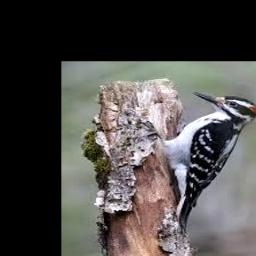Woodpecker: (162, 92, 256, 231)
